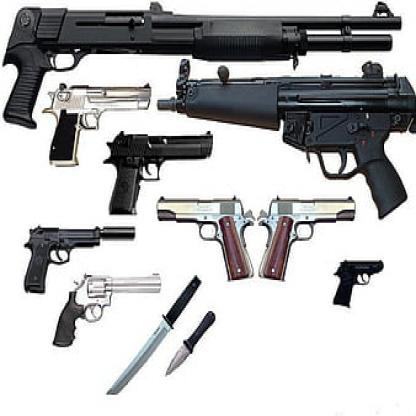Gun: (1, 0, 404, 131), (155, 54, 416, 221)
Knife: (105, 273, 203, 397), (164, 309, 218, 377)
Pistol: (103, 127, 214, 216), (42, 81, 153, 168), (256, 193, 357, 284), (155, 193, 257, 283), (51, 270, 162, 350), (22, 220, 136, 295), (332, 257, 385, 312)
